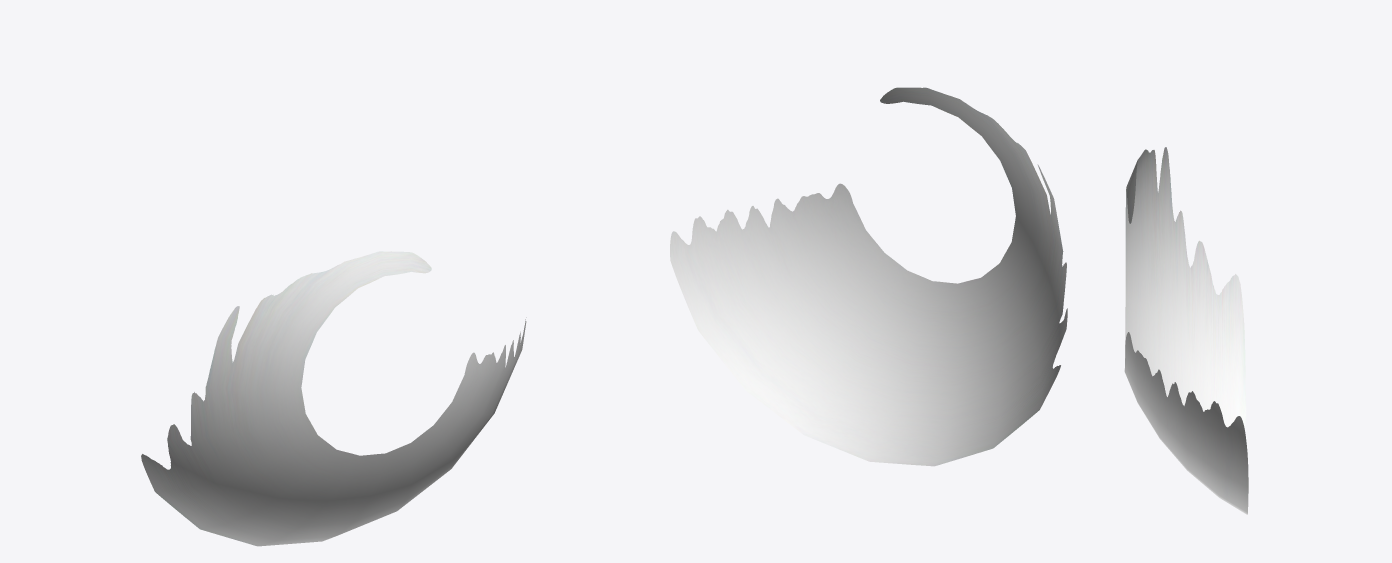
File: DashLinesMesh.fbx
3 renders of one model, left to right at view 1: azimuth 30°, elevation 25°; view 2: azimuth 150°, elevation 25°; view 3: azimuth 270°, elevation 25°, orthographic. The views are drawn at different scales.
Parts seen in each view (by area): view 1: DashLines; view 2: DashLines; view 3: DashLines.
Boxes of the visible parts, left/top/right/bottom form: DashLines: left=141, top=251, right=526, bottom=546; DashLines: left=670, top=87, right=1067, bottom=466; DashLines: left=1124, top=147, right=1248, bottom=514.
Bounding box in the file's own units: 2 × 2 × 1.
1 material, 1 textured.
